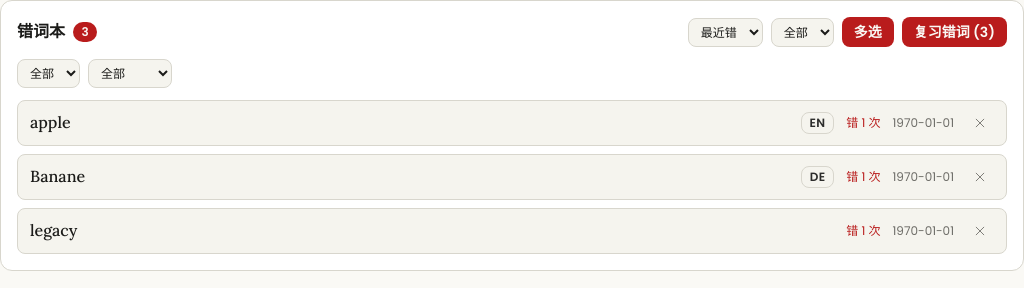
Test: WrongWordsSection 复习控件 (v1.1.0 Stage 2) › T03: 筛选后复习按钮 N 不变 (恒为全量有效条目数)
The width and height of the screenshot is (1024, 288).
Check: the button "复习错词 (3)" is shown, box top-left (902, 17), bottom-right (1007, 47)
Select "en" in the dropdown named "错词语言筛选" at (48, 74), box top-left (17, 59), bottom-right (80, 88)
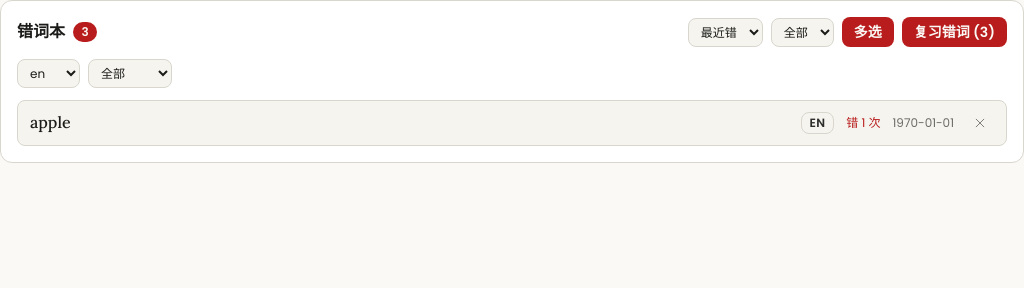
Check: the button "复习错词 (3)" is shown, box top-left (902, 17), bottom-right (1007, 47)
Check: the number of list items with test id "wrong-word-item" is 1, box top-left (17, 100), bottom-right (1007, 146)
